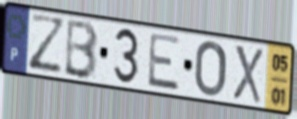3: (111, 26, 142, 88)
B: (62, 18, 100, 82)
E: (146, 31, 182, 93)
O: (193, 39, 229, 99)
X: (231, 43, 265, 107)
Z: (27, 11, 68, 75)
